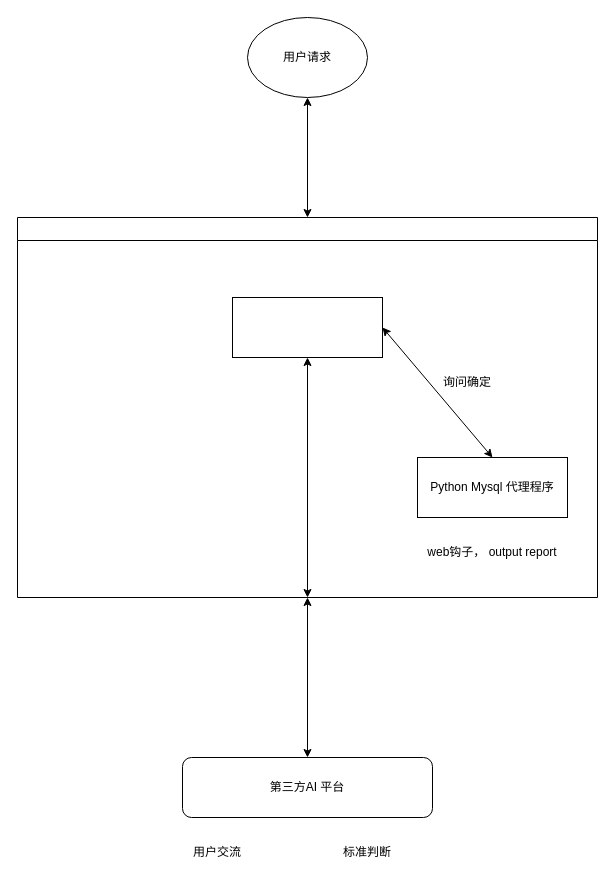
Some shapes in this 615 by 885 pixel diagram are drawn without their labels. Here are the shapes that lost their labels. From the top down, the box of each, then its label:
(232, 296, 382, 358): web server
(16, 216, 598, 598): 服务器
